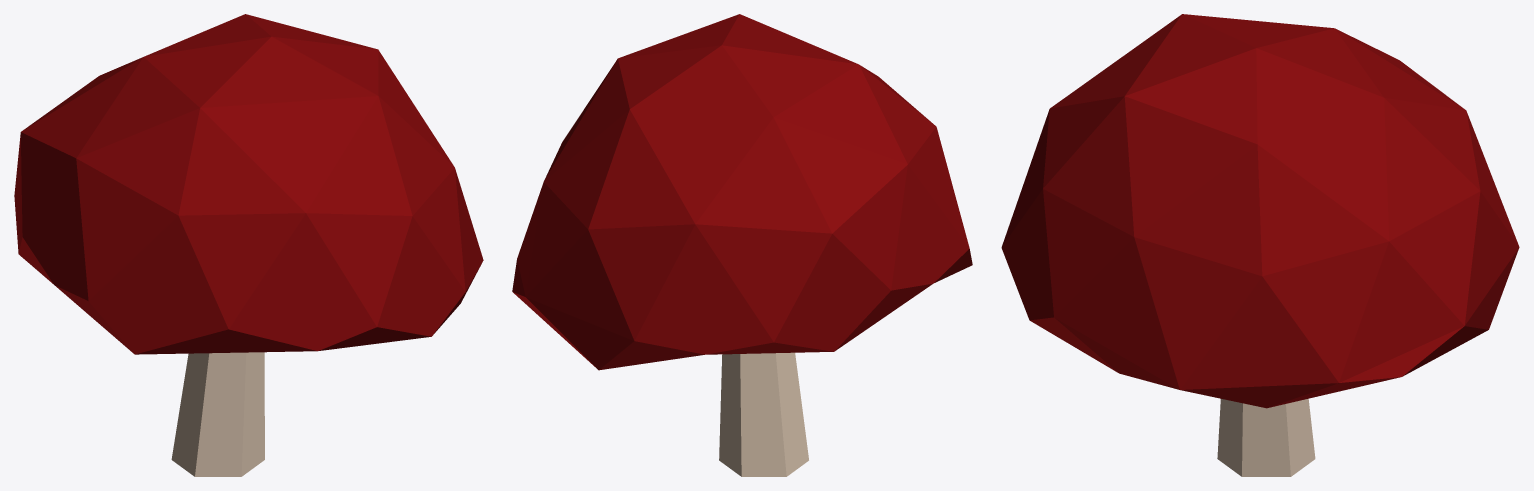
File: enchantedforest_mushroom_1.fbx
3 renders of one model, left to right at view 1: azimuth 30°, elevation 25°; view 2: azimuth 150°, elevation 25°; view 3: azimuth 270°, elevation 25°, orthographic. The views are drawn at different scales.
Parts seen in each view (by area): view 1: Icosphere; view 2: Icosphere; view 3: Icosphere.
Boxes of the visible parts, x1,y1,x2,y2 form: Icosphere: (14, 14, 483, 476); Icosphere: (512, 14, 972, 476); Icosphere: (1001, 14, 1519, 476).
Size of the model in its own units: 0.5365 by 0.5378 by 0.5794.
